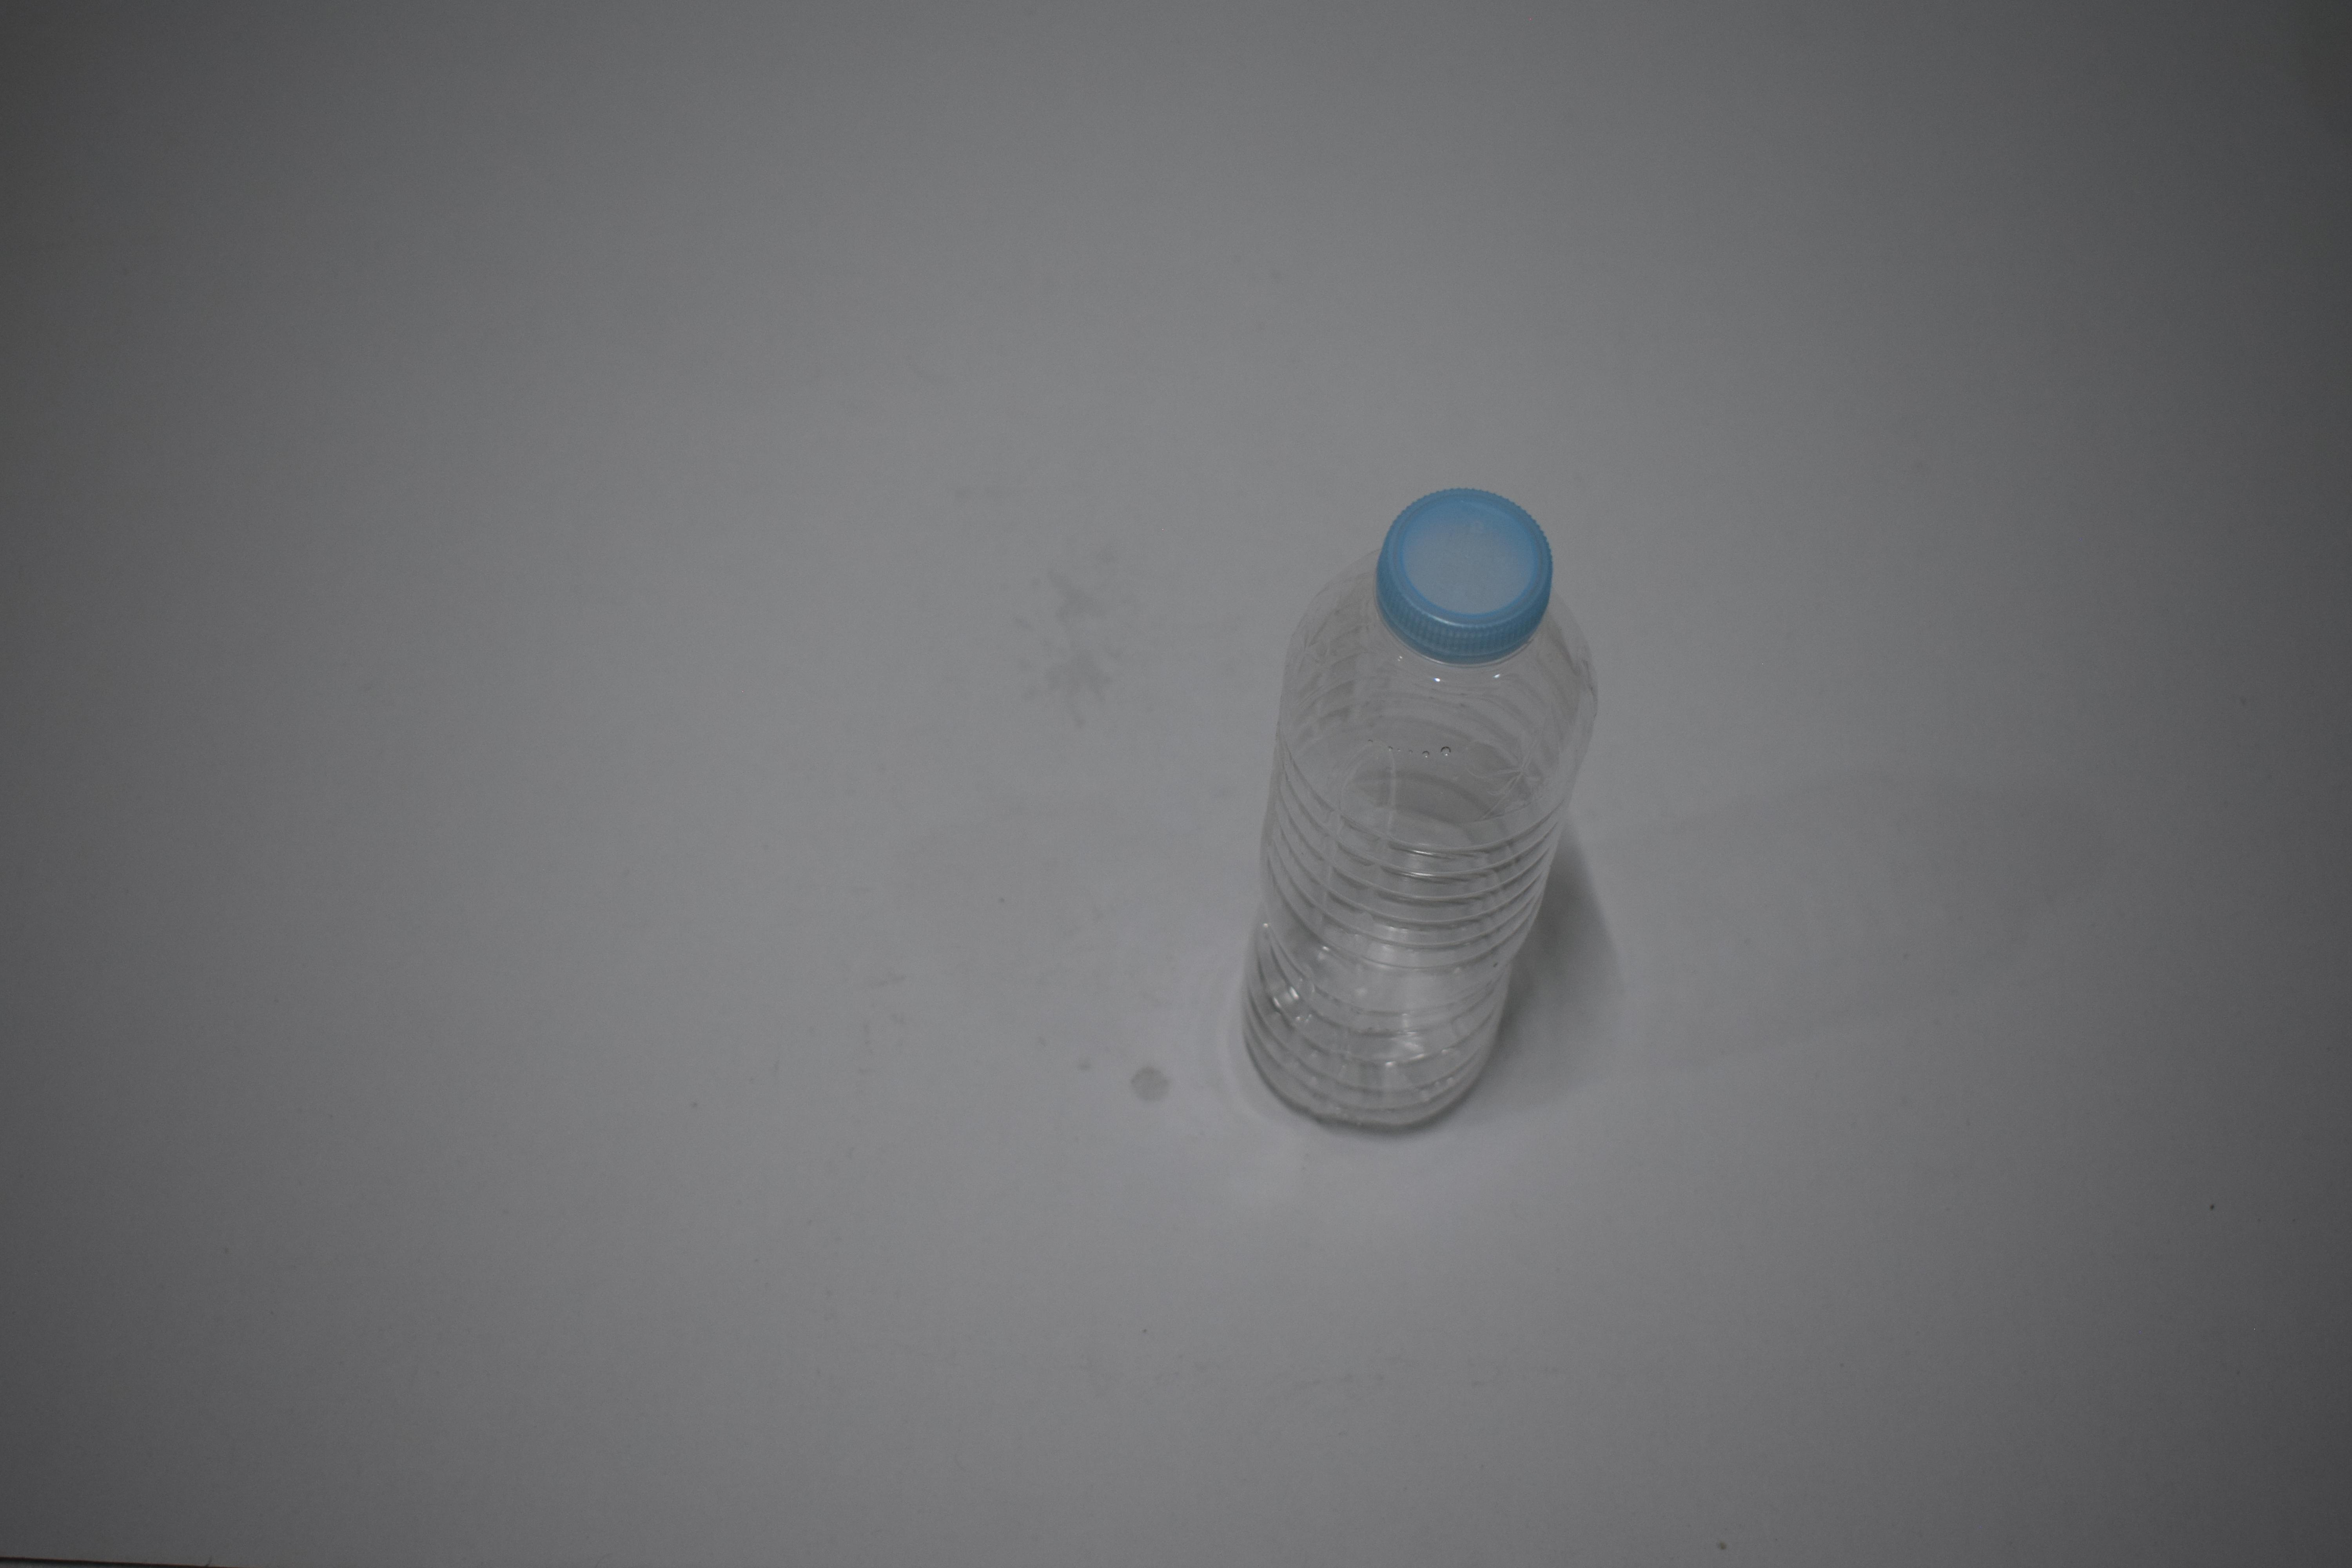bottle: (1286, 0, 1537, 361)
